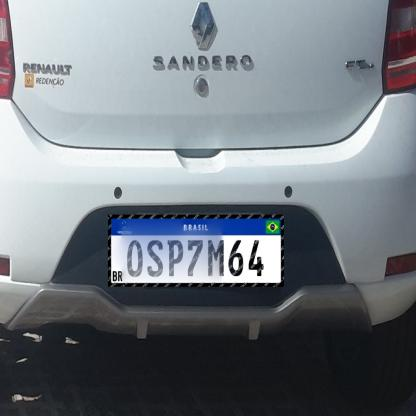PlacaM: (108, 214, 284, 286)
